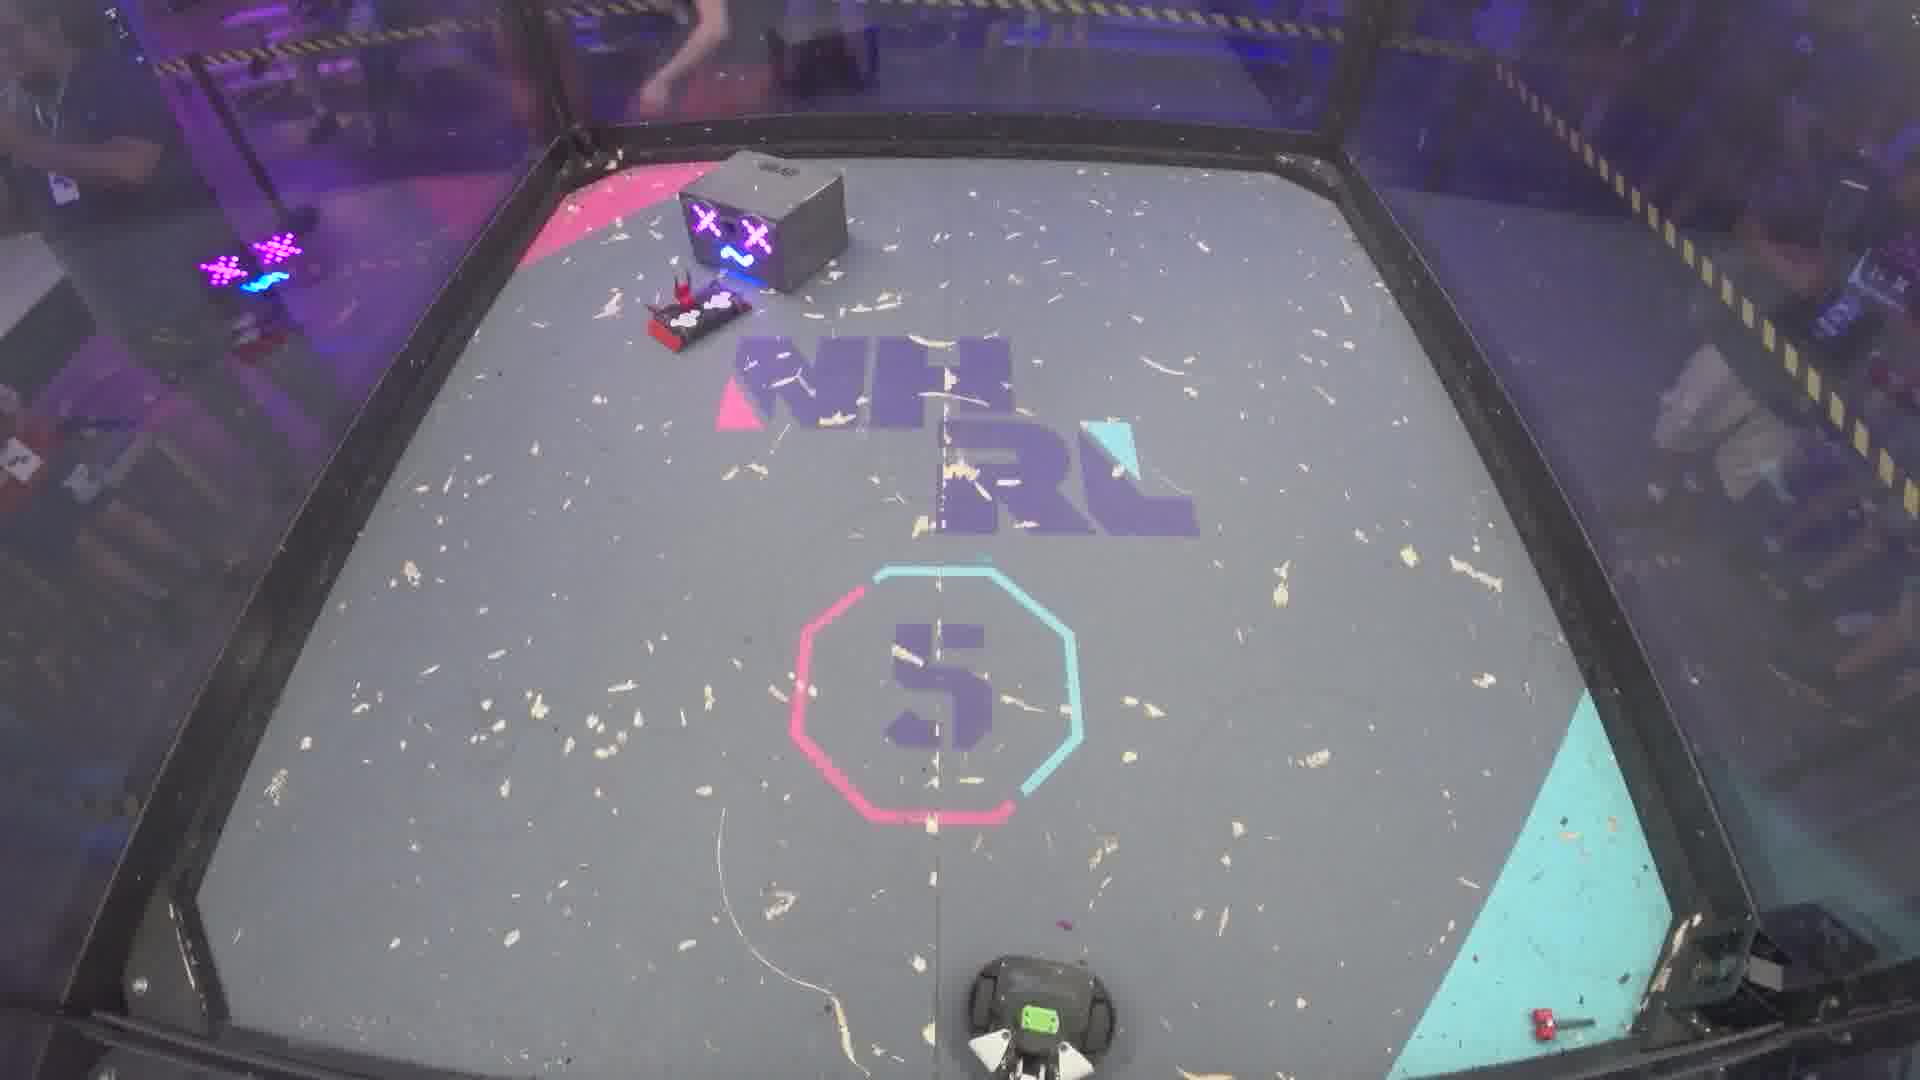combatbot: (964, 957, 1118, 1076), (640, 282, 754, 353)
debris: (1530, 1007, 1589, 1043)
housebot: (680, 148, 848, 294)
